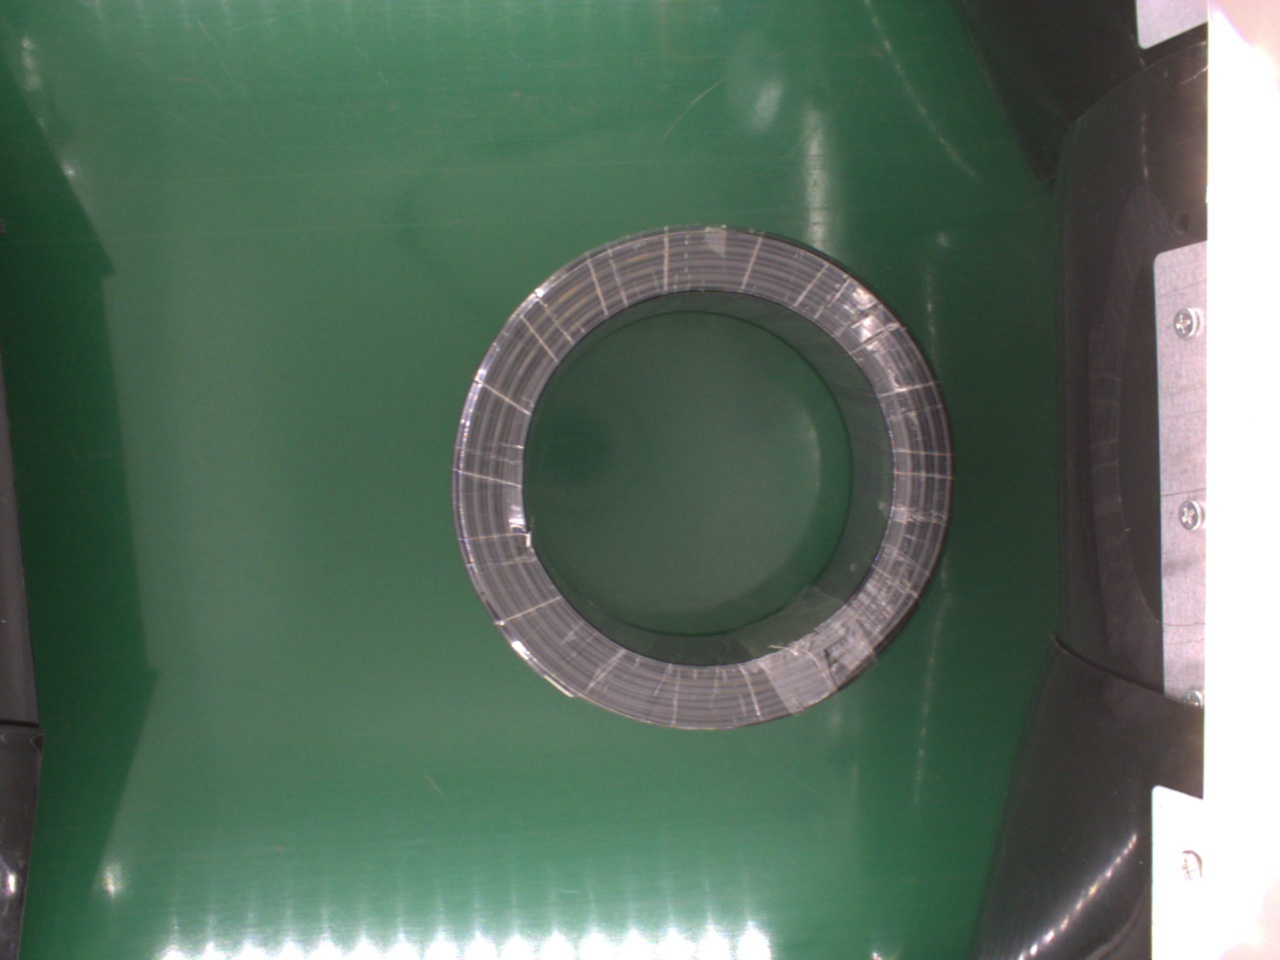black: (447, 223, 953, 738)
